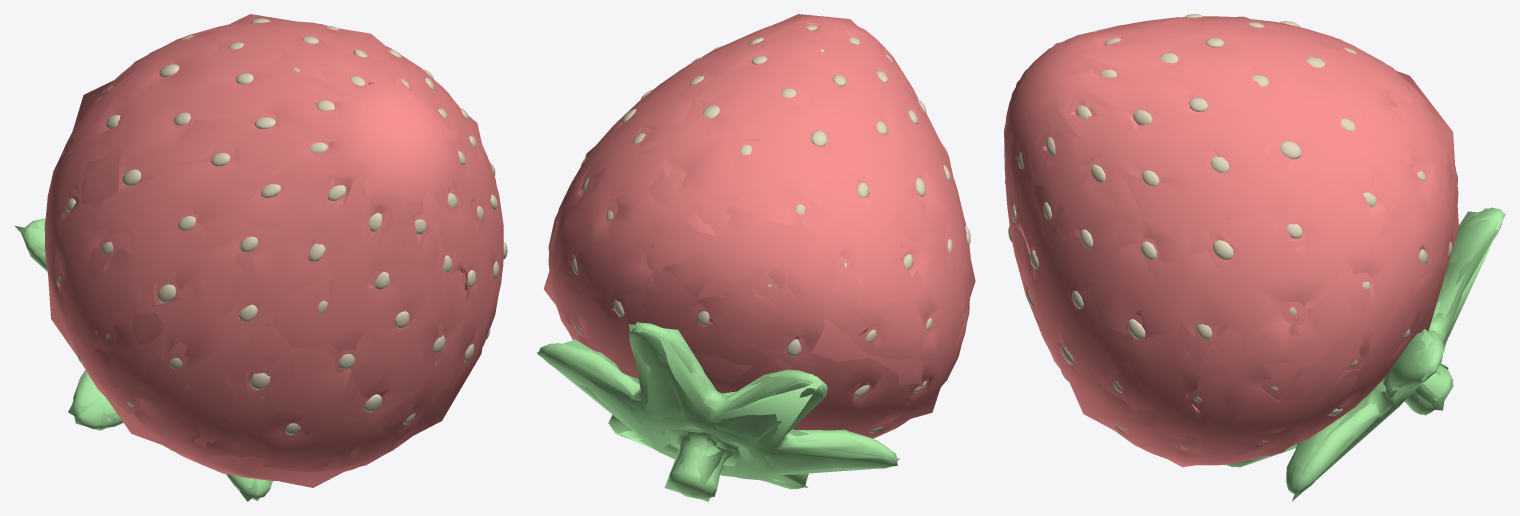
Rendered from Strawberry_LODs.fbx.
3 renders of one model, left to right at view 1: azimuth 30°, elevation 25°; view 2: azimuth 150°, elevation 25°; view 3: azimuth 270°, elevation 25°, orthographic. The views are drawn at different scales.
Parts seen in each view (by area): view 1: Sphere, Sphere.001, Sphere.002, strawberry_LOD0, Cylinder, Cylinder.001; view 2: Sphere, Sphere.001, Sphere.002, Cylinder, Cylinder.001, Cylinder.002, strawberry_LOD0; view 3: Sphere, Sphere.001, Sphere.002, Cylinder, strawberry_LOD0, Cylinder.001, Cylinder.002.
Part boxes in pixels (x1,y1,x2,y2): Sphere: [44, 20, 503, 480]; Sphere.001: [45, 20, 503, 474]; Sphere.002: [44, 14, 501, 487]; strawberry_LOD0: [57, 18, 507, 451]; Cylinder: [23, 218, 272, 498]; Cylinder.001: [21, 222, 272, 500]; Sphere: [548, 16, 969, 437]; Sphere.001: [548, 16, 970, 438]; Sphere.002: [544, 14, 975, 430]; Cylinder: [539, 323, 897, 498]; Cylinder.001: [537, 322, 897, 496]; Cylinder.002: [536, 324, 899, 501]; strawberry_LOD0: [552, 24, 970, 433]; Sphere: [1004, 16, 1458, 465]; Sphere.001: [1004, 17, 1457, 464]; Sphere.002: [1004, 16, 1458, 467]; Cylinder: [1226, 207, 1502, 493]; strawberry_LOD0: [1004, 14, 1452, 456]; Cylinder.001: [1235, 208, 1505, 494]; Cylinder.002: [1240, 211, 1503, 501].
Size of what is drawn, in the model's own units: 88.91 by 96.83 by 97.65.
